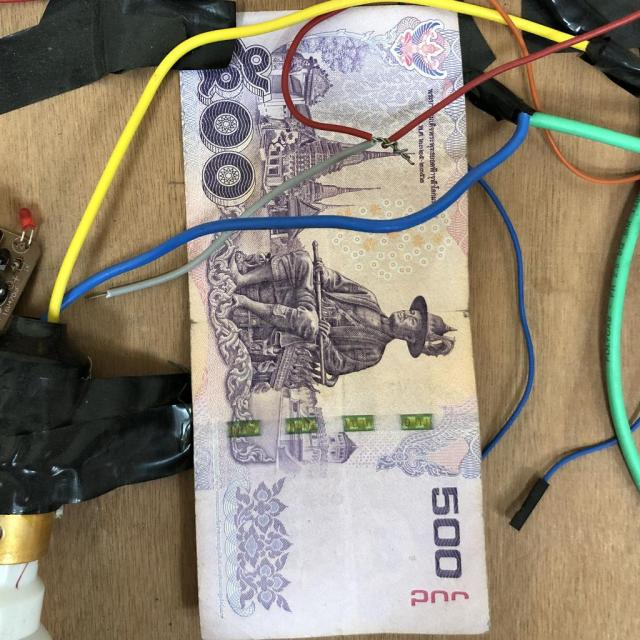THAI500: (188, 196, 489, 639), (181, 21, 362, 228), (253, 98, 467, 219), (289, 5, 462, 136)
